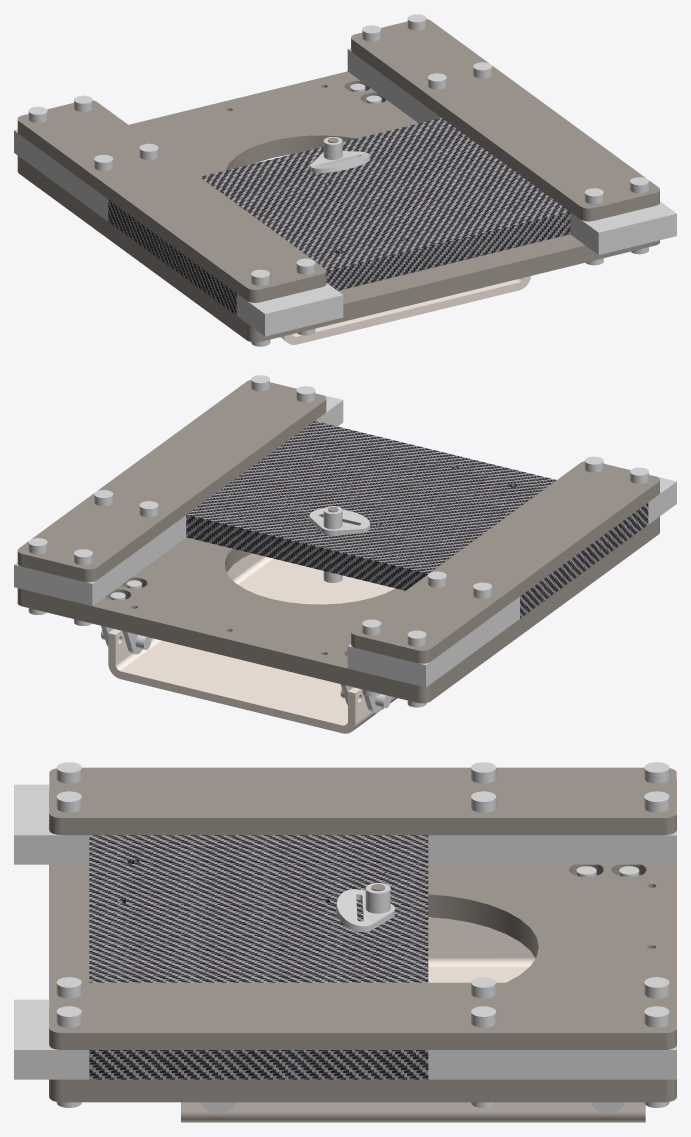
File: r27e-pull-jig.glb
The picture shows the model from 3 angles, top to bottom: view 1: azimuth 30°, elevation 25°; view 2: azimuth 150°, elevation 25°; view 3: azimuth 270°, elevation 25°; orthographic projection. The views are drawn at different scales.
Parts seen in each view (by area): view 1: 27 Shoulder Harness PANEL 310X271-1, Middle Filler Plate-1, Top Plate Shoulder-3, Top Plate Shoulder-2, Rear Clamp Block-2, Rear Clamp Block-1, Bottom Plate-1, Front Clamp Block-2, Front Clamp Block-1, 27 Shoulder Harness Mount-2; view 2: 27 Shoulder Harness PANEL 310X271-1, Middle Filler Plate-1, Top Plate Shoulder-2, Top Plate Shoulder-3, Bottom Plate-1, Front Clamp Block-2, Front Clamp Block-1, 27 Shoulder Harness Mount-2, Rear Clamp Block-2, M11.1125x41 Dumbell-1, Rear Clamp Block-1; view 3: 27 Shoulder Harness PANEL 310X271-1, Middle Filler Plate-1, Top Plate Shoulder-3, Top Plate Shoulder-2, Bottom Plate-1, Front Clamp Block-1, Front Clamp Block-2, Rear Clamp Block-1, Rear Clamp Block-2, 27 Shoulder Harness Mount-2, M11.1125x41 Dumbell-1, M10x59 Dumbell-1 (+2 smaller).
Part boxes in pixels (x1,y1,x2,y2): 27 Shoulder Harness PANEL 310X271-1: (108, 118, 570, 315); Middle Filler Plate-1: (17, 71, 659, 342); Top Plate Shoulder-3: (17, 100, 326, 302); Top Plate Shoulder-2: (351, 19, 659, 221); Rear Clamp Block-2: (236, 283, 343, 336); Rear Clamp Block-1: (570, 201, 676, 254); Bottom Plate-1: (280, 276, 530, 344); Front Clamp Block-2: (14, 129, 108, 221); Front Clamp Block-1: (347, 48, 441, 123); 27 Shoulder Harness Mount-2: (310, 151, 370, 173); 27 Shoulder Harness PANEL 310X271-1: (186, 421, 648, 618); Middle Filler Plate-1: (17, 516, 659, 703); Top Plate Shoulder-2: (17, 380, 326, 582); Top Plate Shoulder-3: (351, 461, 659, 663); Bottom Plate-1: (108, 553, 397, 733); Front Clamp Block-2: (347, 596, 519, 687); Front Clamp Block-1: (14, 515, 186, 605); 27 Shoulder Harness Mount-2: (309, 508, 370, 534); Rear Clamp Block-2: (648, 474, 676, 524); M11.1125x41 Dumbell-1: (323, 506, 342, 582); Rear Clamp Block-1: (315, 393, 343, 426); 27 Shoulder Harness PANEL 310X271-1: (89, 835, 428, 1079); Middle Filler Plate-1: (49, 864, 676, 1102); Top Plate Shoulder-3: (49, 767, 676, 835); Top Plate Shoulder-2: (49, 982, 676, 1049); Bottom Plate-1: (181, 917, 645, 1122); Front Clamp Block-1: (428, 1026, 676, 1079); Front Clamp Block-2: (428, 811, 676, 864); Rear Clamp Block-1: (14, 999, 89, 1079); Rear Clamp Block-2: (14, 784, 89, 864); 27 Shoulder Harness Mount-2: (336, 889, 394, 931); M11.1125x41 Dumbell-1: (365, 883, 390, 913); M10x59 Dumbell-1: (644, 1006, 669, 1107).
Size of the model in its own units: 0.5 by 0.1427 by 0.528.
Materials: 11 (1 with a texture image).
